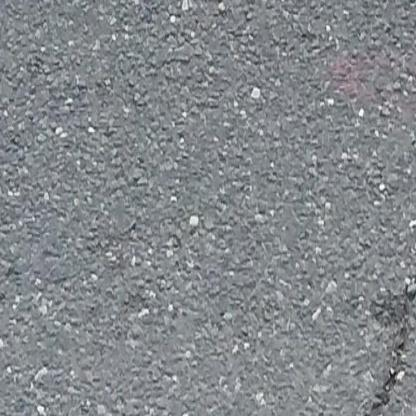Cracks: (364, 229, 416, 416)
